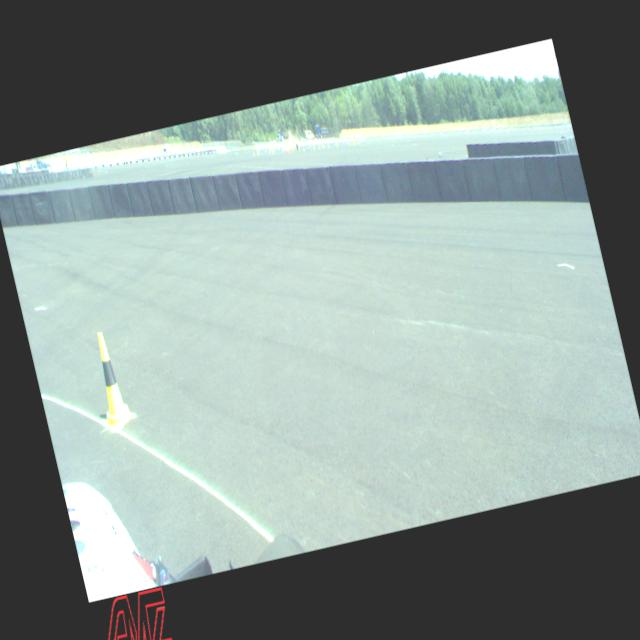yellow_cone: (88, 330, 131, 426)
